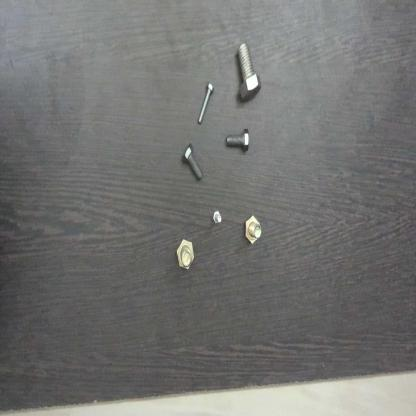Bolts: (234, 40, 266, 104), (192, 78, 216, 129), (181, 142, 207, 185), (240, 210, 264, 247), (224, 124, 252, 155), (174, 235, 195, 274), (212, 209, 224, 230)
